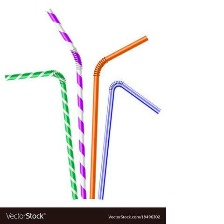drinking_straw: (85, 30, 151, 199), (1, 66, 79, 202), (39, 3, 91, 199), (95, 76, 163, 199)
